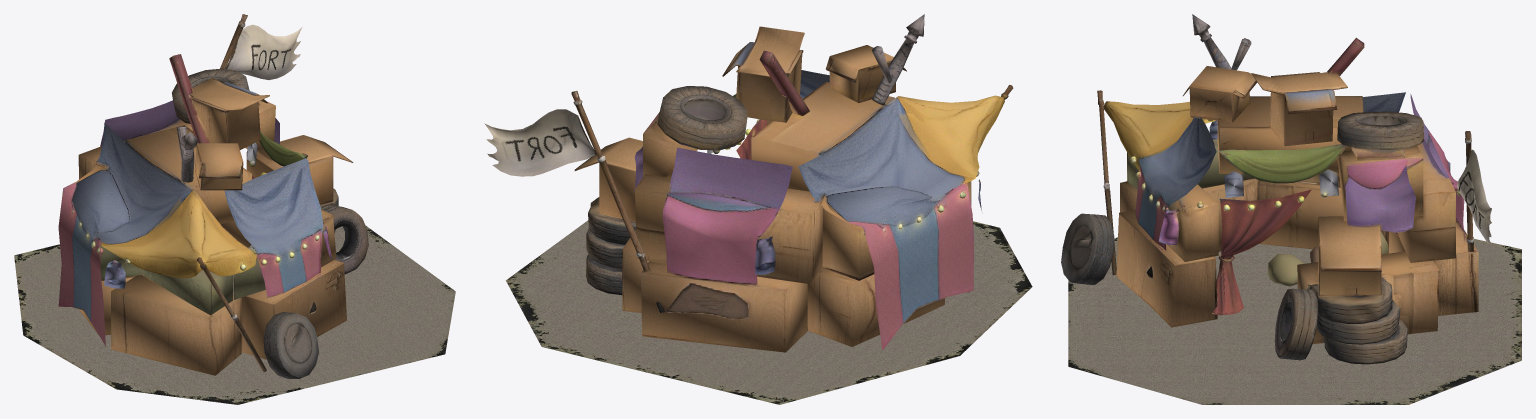
The model's file is tripo_convert_83ac28ae-52ec-480a-8bab-80e8545ea4d0.fbx.
3 views of the same model, side by side, from view 1: azimuth 30°, elevation 25°; view 2: azimuth 150°, elevation 25°; view 3: azimuth 270°, elevation 25° (orthographic). The views are drawn at different scales.
Visible parts, largest first — view 1: tripo_node_83ac28ae; view 2: tripo_node_83ac28ae; view 3: tripo_node_83ac28ae.
Boxes of the visible parts, <box> form: tripo_node_83ac28ae: <box>14,14,455,404</box>; tripo_node_83ac28ae: <box>484,14,1032,404</box>; tripo_node_83ac28ae: <box>1061,14,1521,404</box>.
Bounding box in the file's own units: 0.998 × 0.6074 × 0.9941.
1 material, 1 textured.
